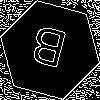B: (25, 25, 70, 77)
